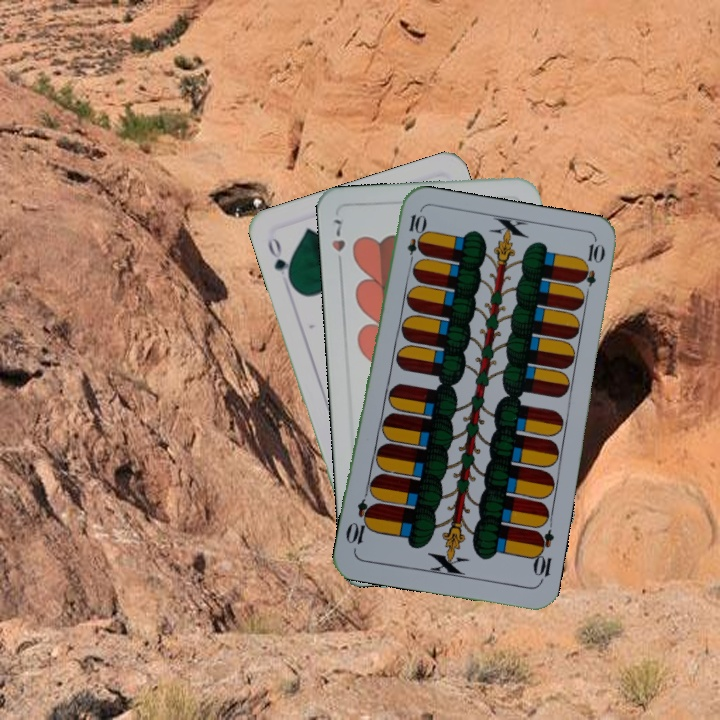E10: (528, 527, 556, 585), (402, 210, 426, 269)
GO: (263, 232, 296, 288)
H7: (328, 215, 348, 271)
